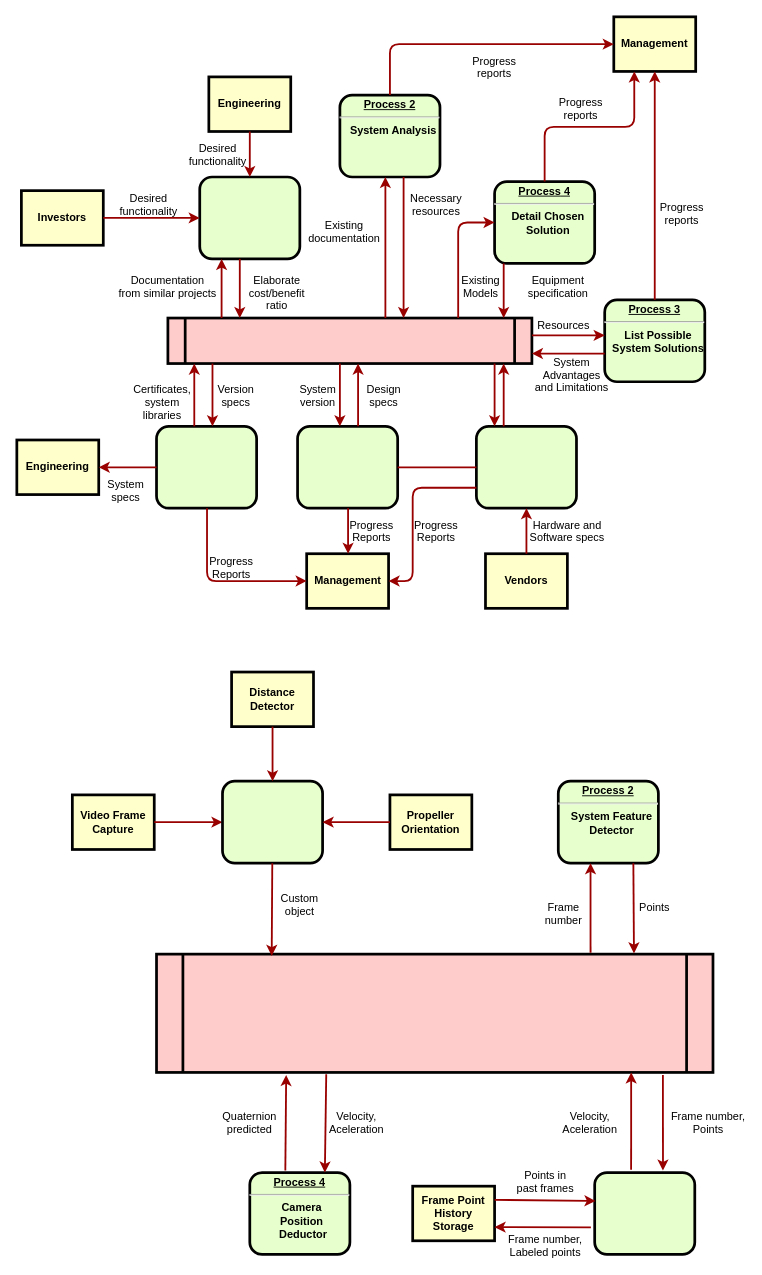
The diagram is 762 pixels wide and 1275 high, and some of its shapes have lost their labels. Here are the shapes that lost their labels. From the top down, the box of each, then its label:
(198, 175, 301, 260): Process 1 System Study Preparation
(166, 316, 533, 364): ON-DEMAND SYSTEM DEVELOPMENT
(155, 425, 258, 509): Process 6 New System Construction
(296, 425, 399, 509): Process 7 New System Startup and Testing
(475, 425, 577, 509): Process 5 New System Design
(221, 779, 324, 864): Process 1 System input manager
(155, 952, 714, 1073): App Manager
(593, 1171, 696, 1255): Process 3 System Feature Traking
